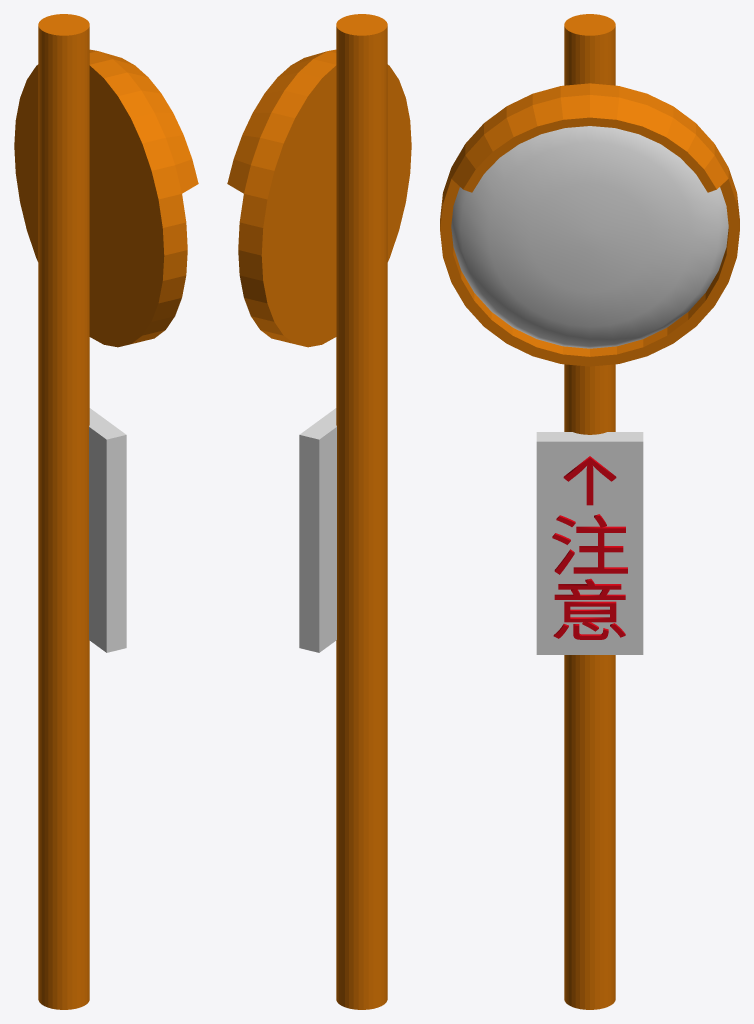
Rendered from mirror.fbx.
3 views of the same model, side by side, from view 1: azimuth 30°, elevation 25°; view 2: azimuth 150°, elevation 25°; view 3: azimuth 270°, elevation 25° (orthographic).
Parts seen in each view (by area): view 1: 円柱, 円柱.001, 立方体; view 2: 円柱, 円柱.001, 立方体; view 3: 円柱.001, 円柱, 立方体, テキスト.
Boxes of the visible parts, x1,y1,x2,y2 form: 円柱: (38,14,89,1009); 円柱.001: (14,49,198,347); 立方体: (89,408,126,652); 円柱: (336,14,387,1009); 円柱.001: (227,49,411,347); 立方体: (299,408,336,652); 円柱.001: (440,83,739,366); 円柱: (564,14,615,1009); 立方体: (536,432,643,654); テキスト: (552,456,627,639).
Size of the model in its own units: 0.4016 by 4 by 1.12.
